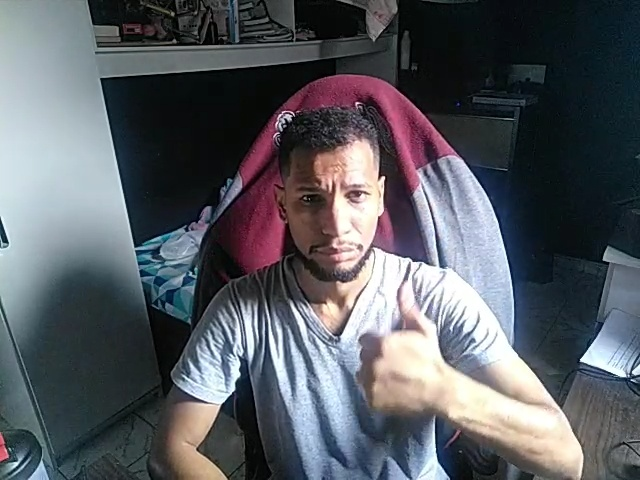sim: (355, 279, 453, 433)
